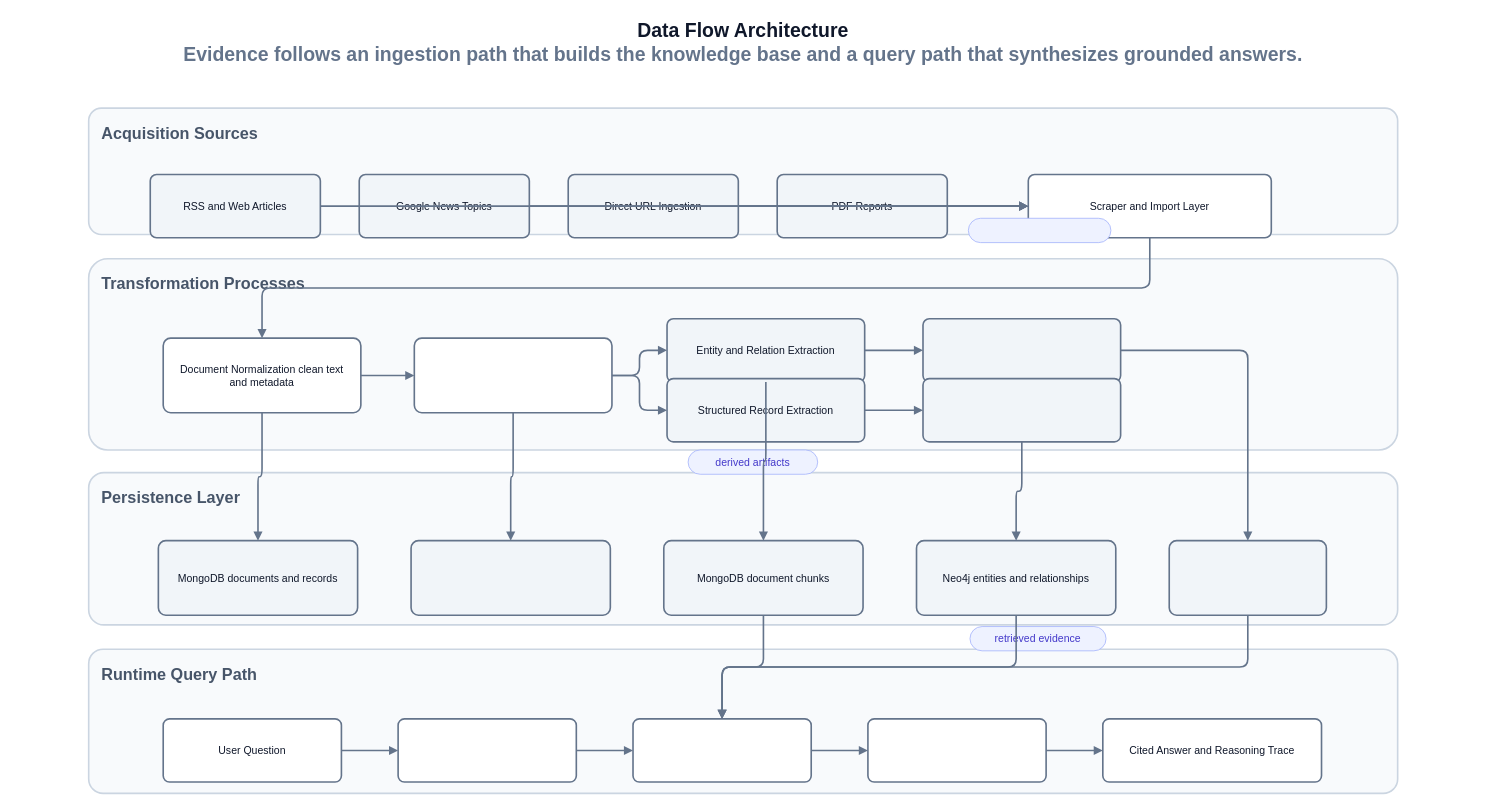
The diagram is 1486 pixels wide and 808 high, and some of its shapes have lost their labels. The centre of each missing label's shape, as x and y in pixels:
"Chunking and Embedding" belongs at [1021,350].
"FastAPI Query Endpoint" belongs at [487,750].
"Graph Publication" belongs at [1021,409].
"LLM Synthesis" belongs at [957,750].
"MongoDB mentions and assertions" belongs at [510,577].
"normalized document" belongs at [1039,230].
"Quality Gate deduplication and relevance" belongs at [512,375].
"Reasoning Engine" belongs at [722,750].
"ZVec vectors" belongs at [1247,577].
